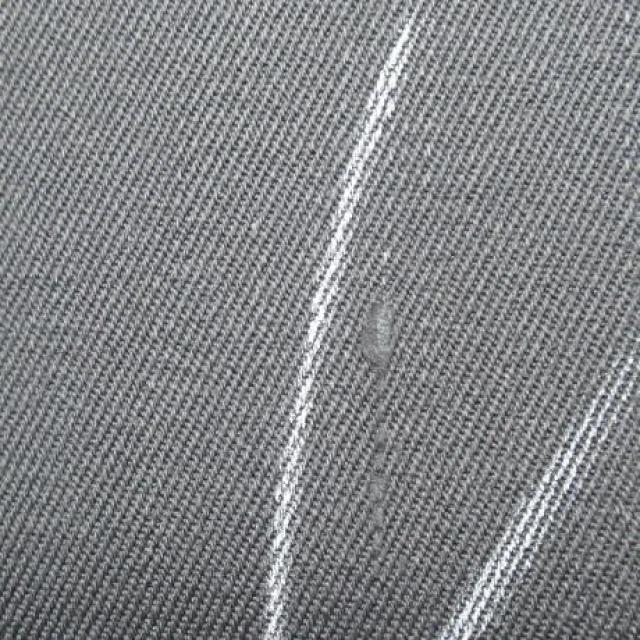stains: (340, 256, 448, 580)
